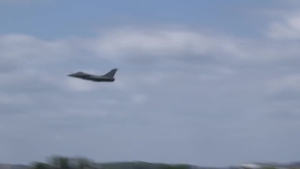flight: (66, 68, 118, 83)
